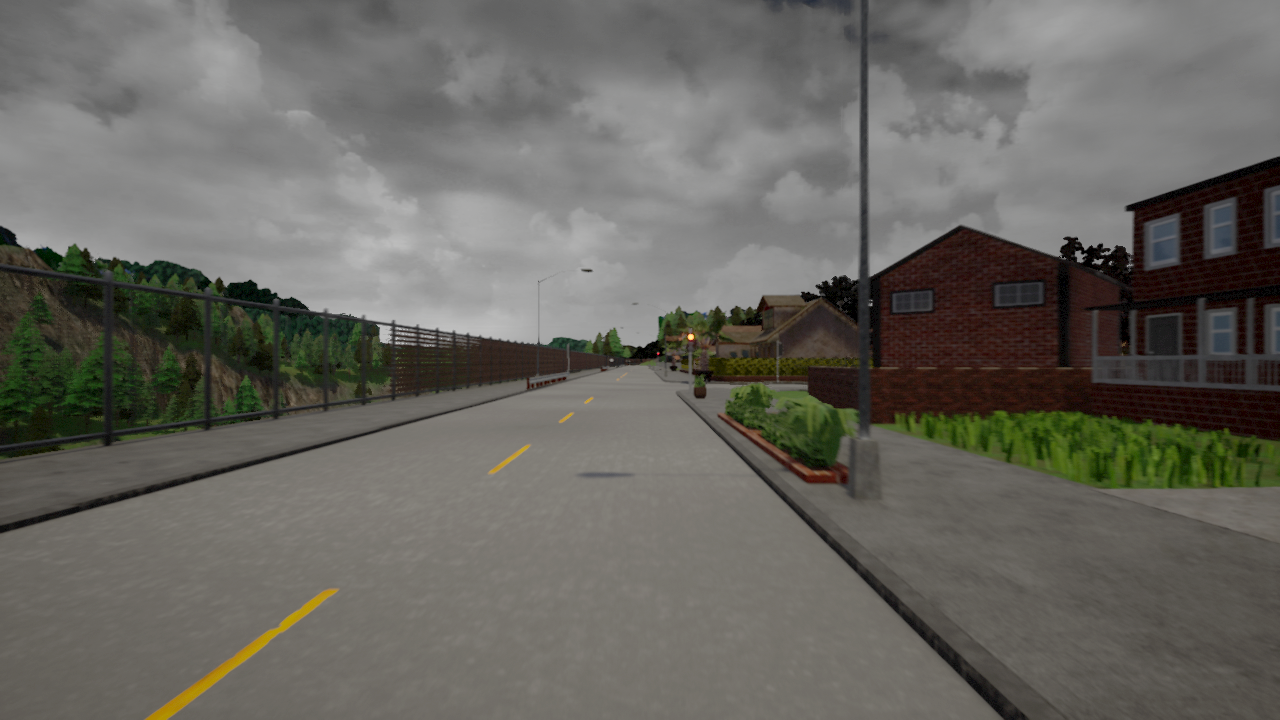red: (687, 333, 695, 352)
